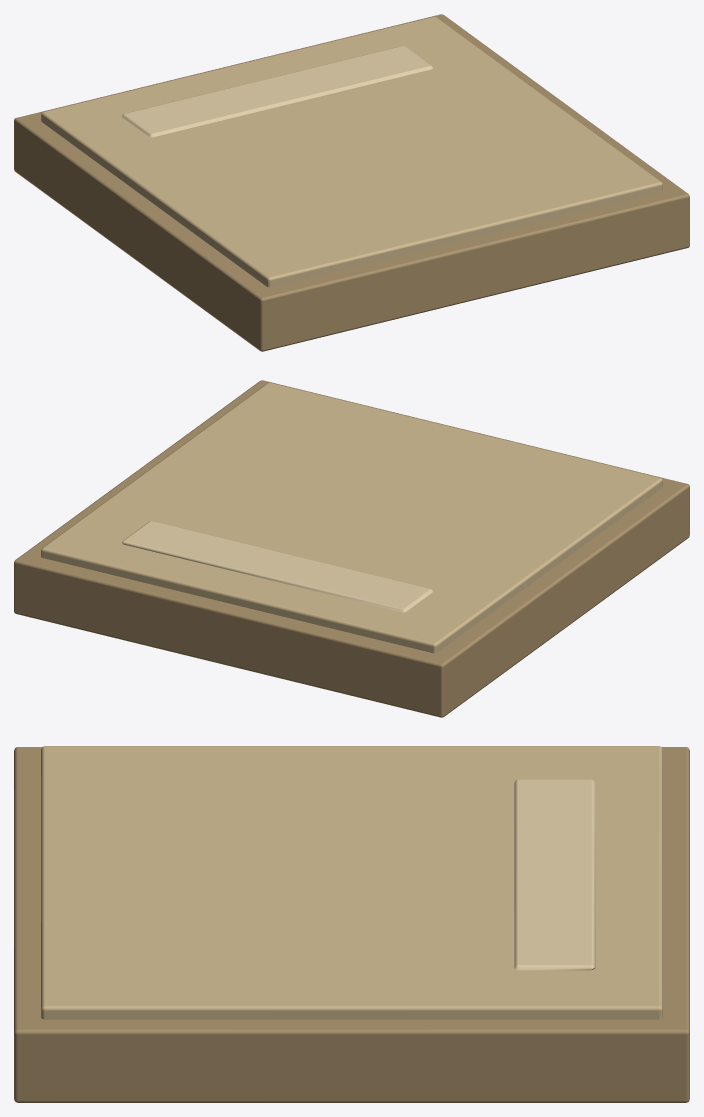
The model's file is piso.glb.
3 renders of one model, top to bottom at view 1: azimuth 30°, elevation 25°; view 2: azimuth 150°, elevation 25°; view 3: azimuth 270°, elevation 25°, orthographic. The views are drawn at different scales.
Parts seen in each view (by area): view 1: Ladrilho; view 2: Ladrilho; view 3: Ladrilho.
Part boxes in pixels (x1=…): Ladrilho: x1=14, y1=14, x2=689, y2=351; Ladrilho: x1=14, y1=380, x2=689, y2=717; Ladrilho: x1=14, y1=746, x2=689, y2=1102.
Bounding box in the file's own units: 1 × 0.146 × 1.
